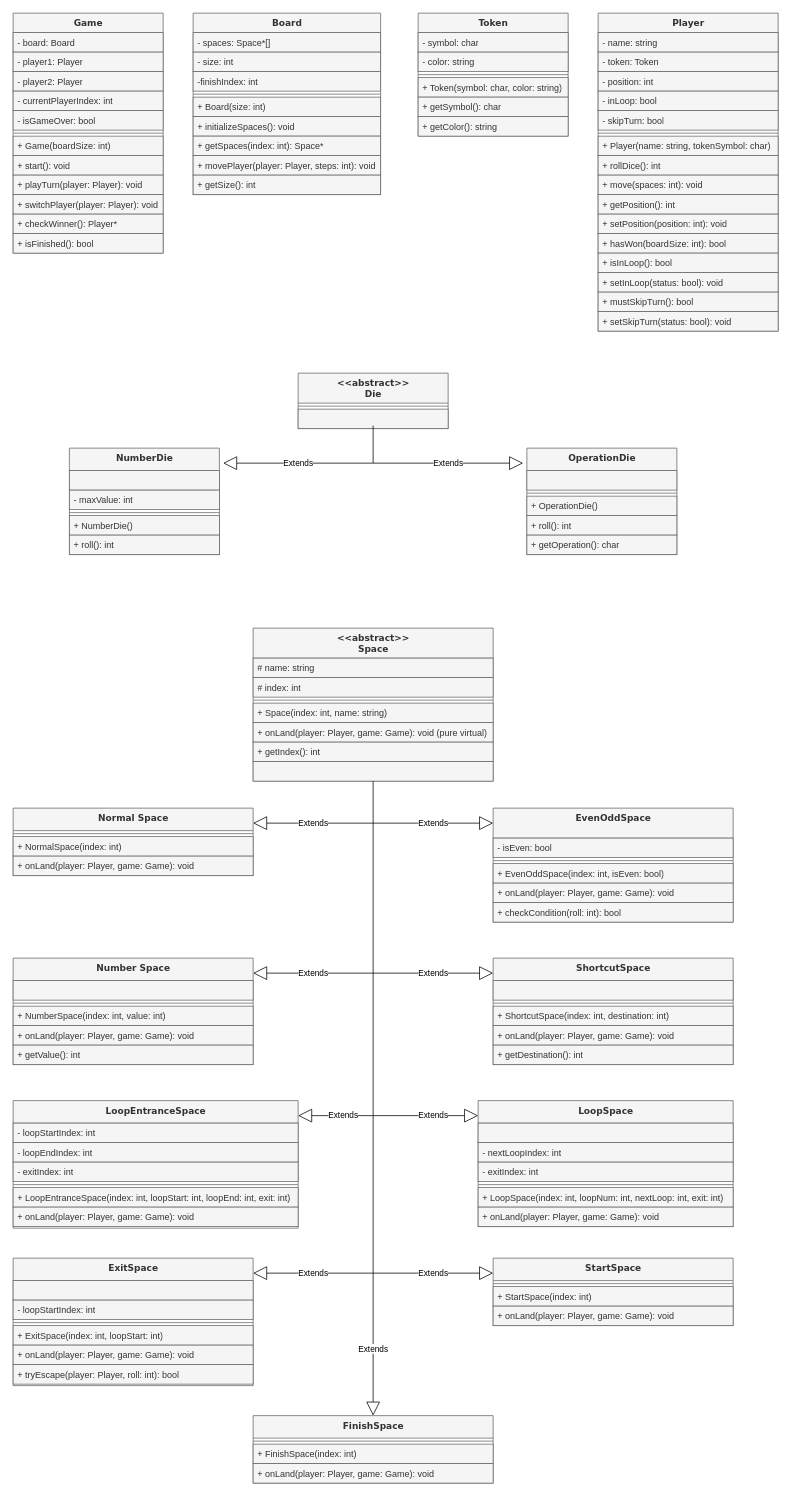
Some shapes in this 791 by 1499 pixel diagram are drawn without their labels. Here are the shapes that lost their labels. From the top down, the centre of each, then its label:
(372,418): + roll(): int (pure virtual)
(144,480): - minValue: int
(601,480): - operations: char[]
(372,771): + getName(): string
(132,990): - value: int
(612,990): # destinationIndex: int
(605,1132): - loopNumber: int
(132,1290): - requiredRoll: int
